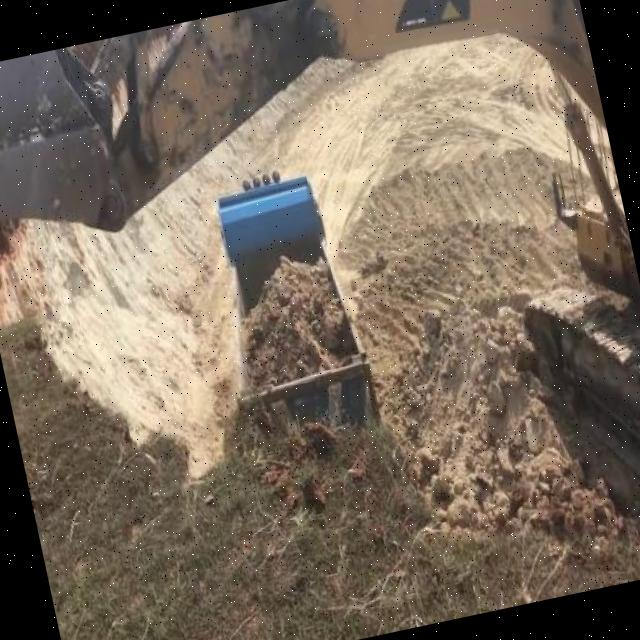Dump Truck: (195, 172, 386, 465)
Excavator: (0, 0, 640, 640)
